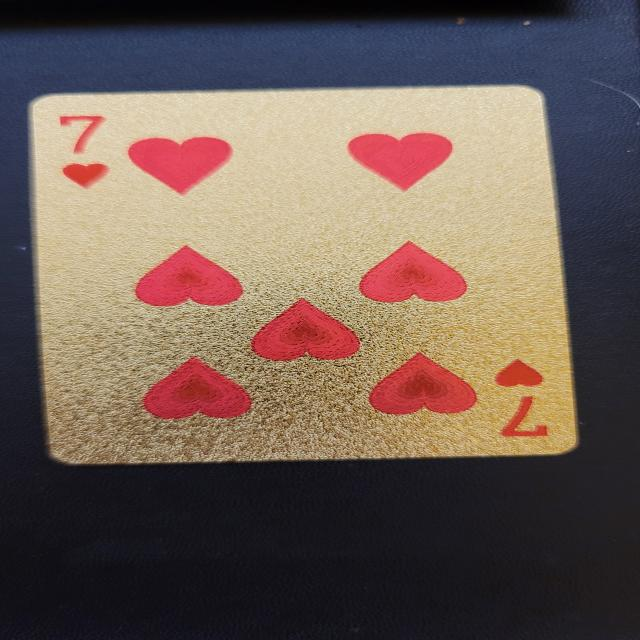7 of hearts: (24, 84, 580, 466)
